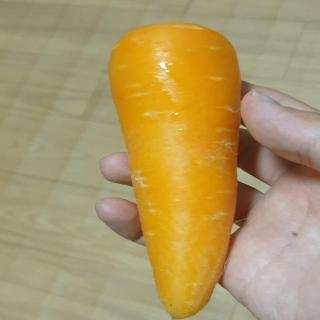carrot: (101, 18, 247, 320)
